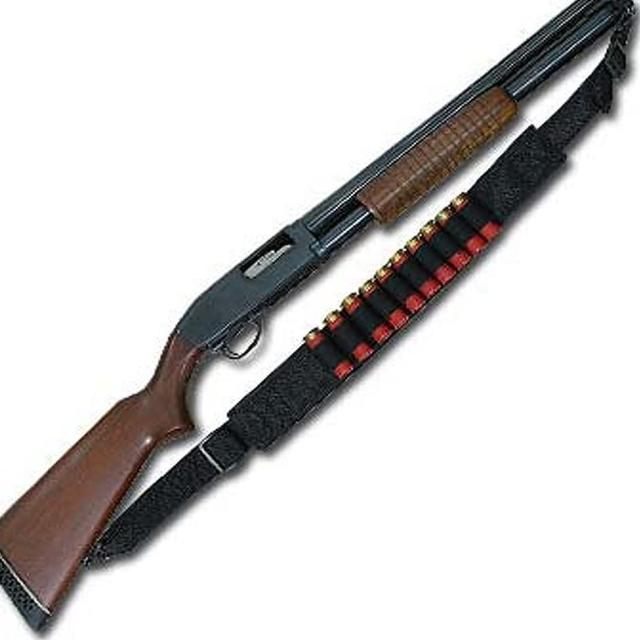Weapon: (0, 0, 633, 627)
